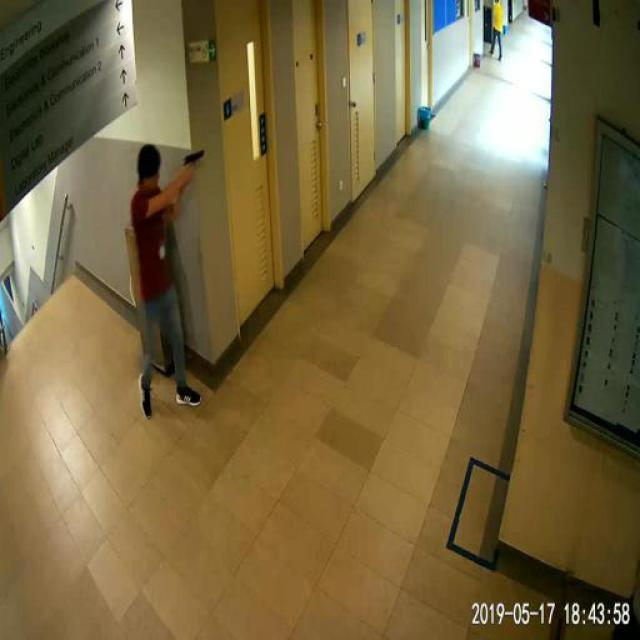weapon: (182, 150, 207, 167)
